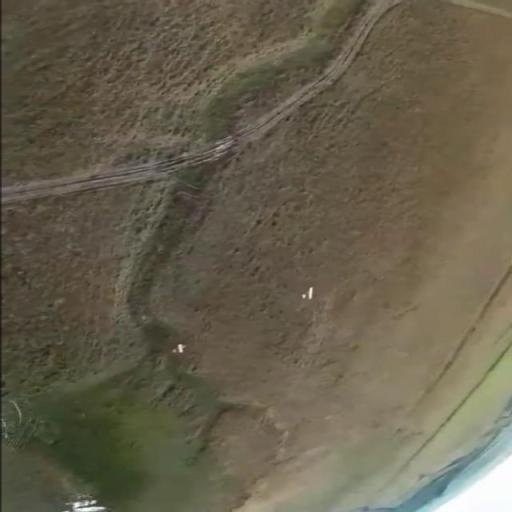uav: (300, 286, 314, 300), (171, 344, 186, 353)
